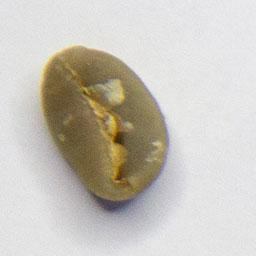premium: (37, 42, 173, 206)
